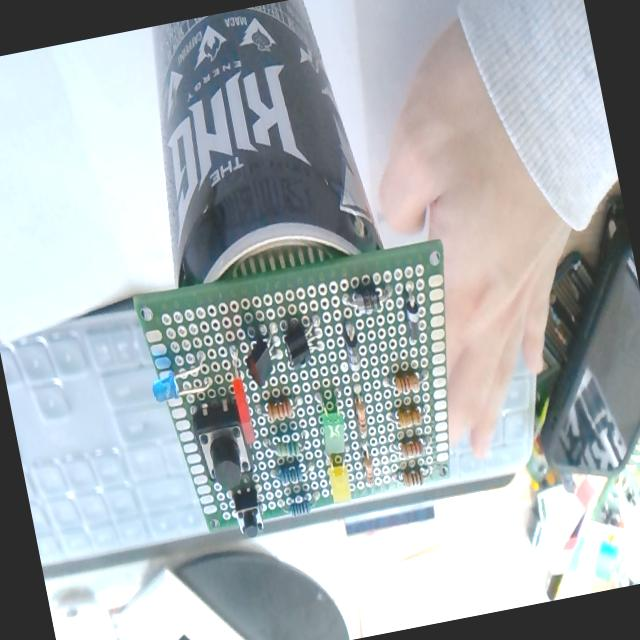diode: (341, 280, 394, 319), (341, 322, 365, 373), (402, 296, 424, 344)
led: (223, 342, 256, 444), (147, 366, 214, 407), (314, 386, 351, 445), (326, 454, 354, 504)
resistor: (383, 366, 428, 396), (275, 460, 305, 487), (264, 396, 294, 422), (271, 437, 302, 462), (395, 465, 425, 490), (354, 398, 371, 438), (396, 405, 423, 429), (286, 496, 314, 519), (398, 438, 424, 460), (361, 452, 377, 486)
switch: (190, 398, 255, 490), (230, 486, 266, 540)
transistor: (280, 316, 330, 374), (239, 324, 281, 390)
